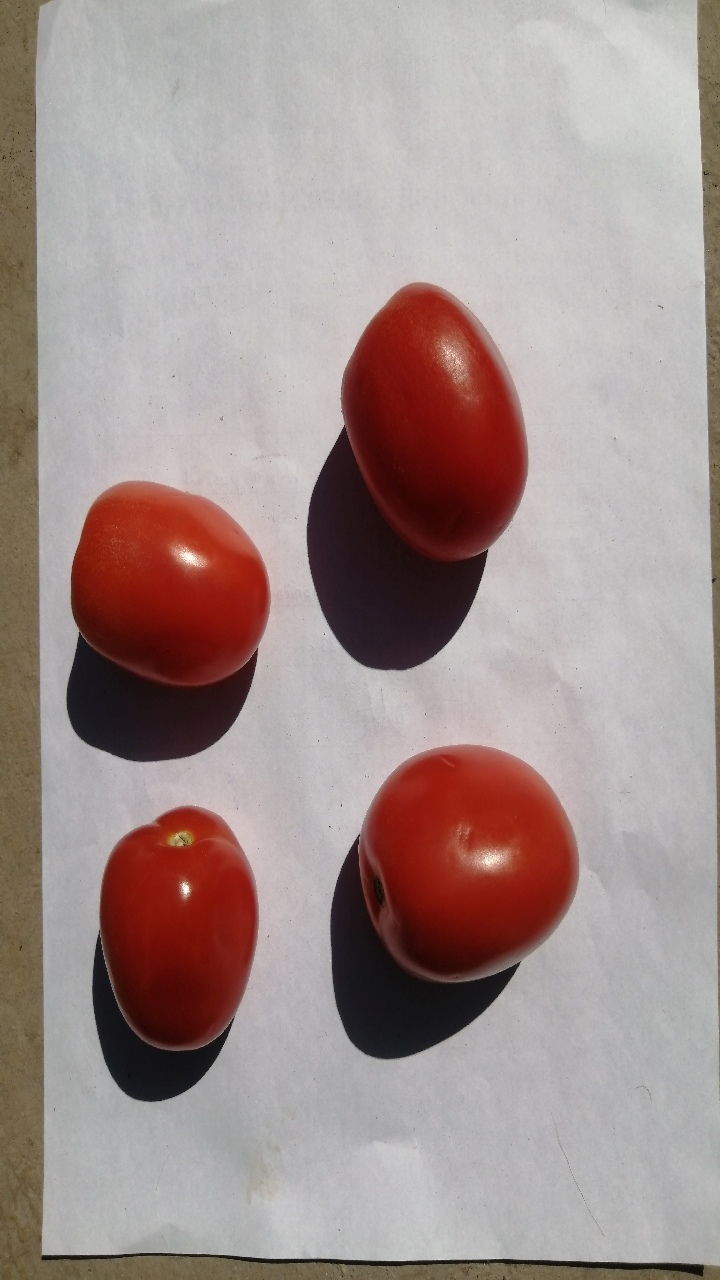tomateRojo: (308, 266, 551, 579), (337, 729, 601, 1008), (60, 448, 283, 706), (78, 783, 274, 1066)
